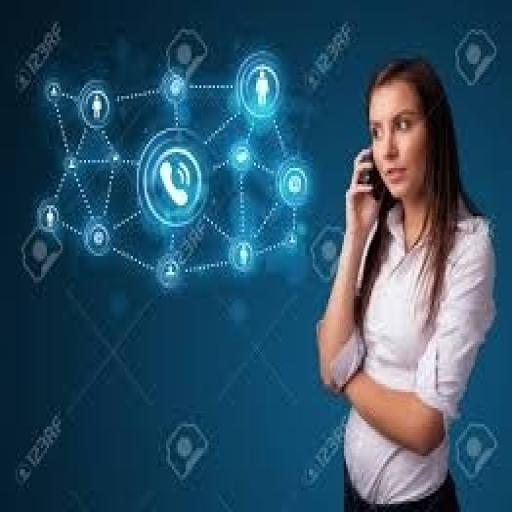calling: (313, 54, 498, 510)
